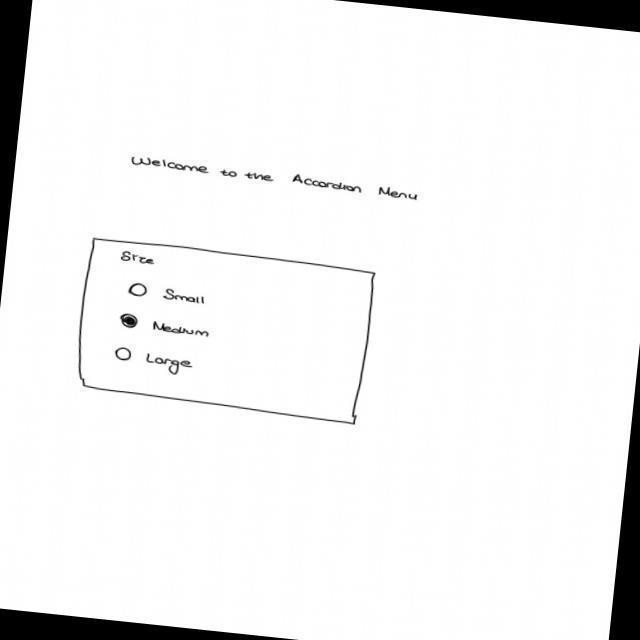container: (71, 235, 378, 428)
label: (128, 155, 421, 203), (118, 249, 160, 268)
radio: (111, 346, 135, 379), (118, 312, 143, 342), (125, 282, 151, 309)
